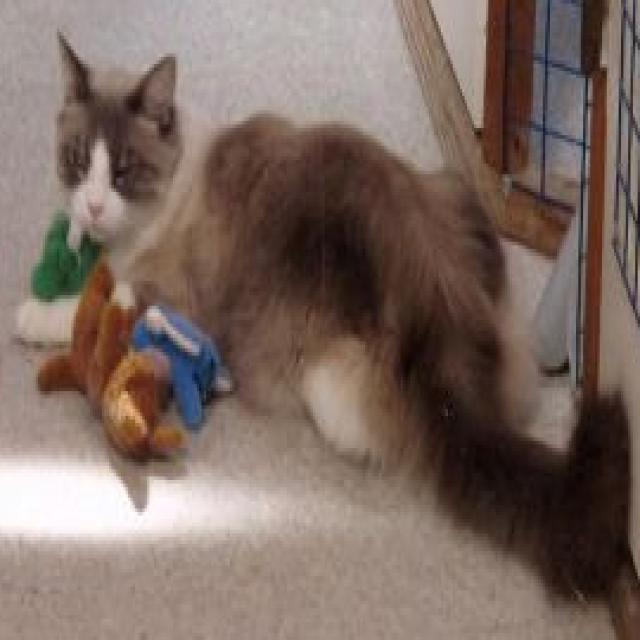Ragdoll: (10, 26, 636, 615)
